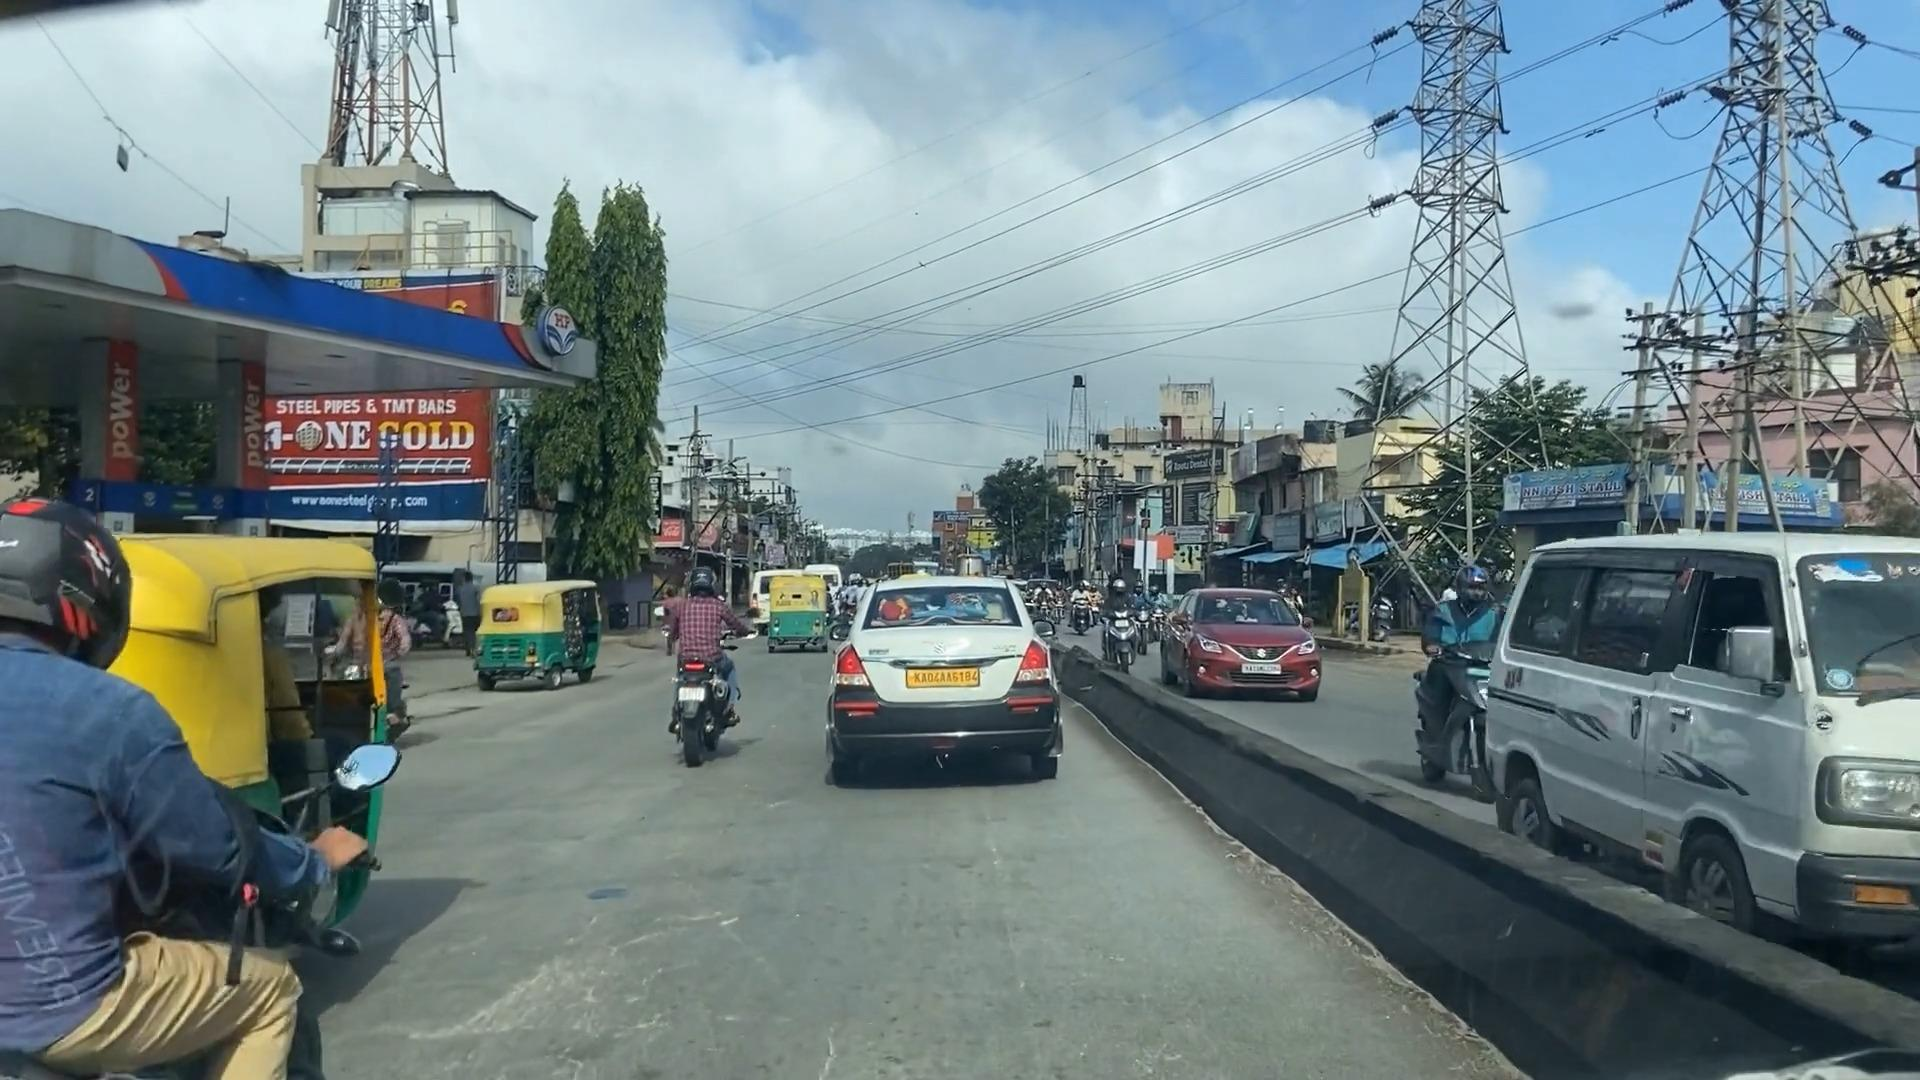LMV: (667, 551, 736, 765)
RoadDamages: (427, 878, 745, 1054), (818, 571, 1063, 778)
